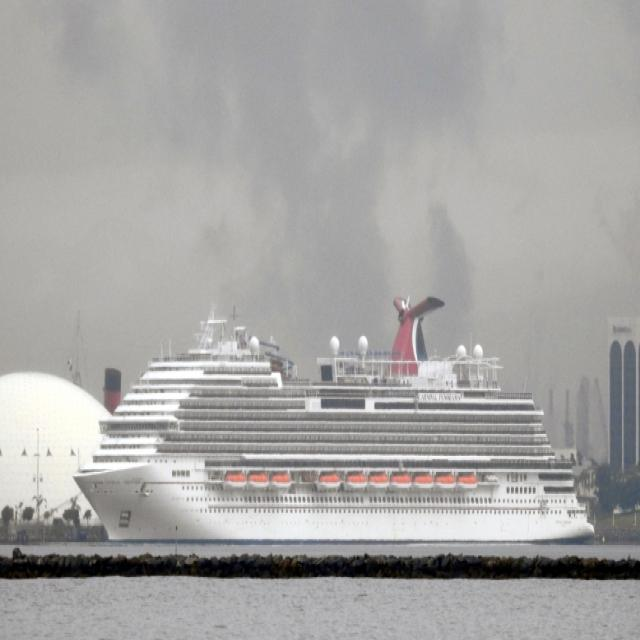cruises: (67, 289, 603, 555)
